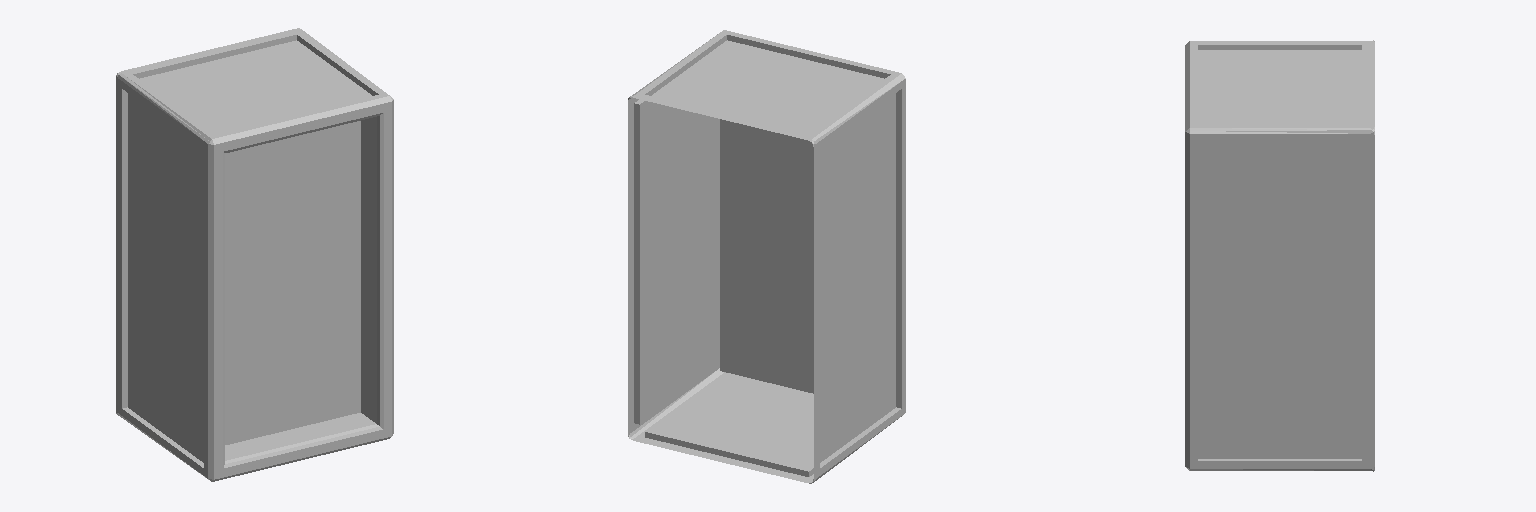
Rendered from puzzlebox.obj.
The picture shows the model from 3 angles: view 1: azimuth 30°, elevation 25°; view 2: azimuth 150°, elevation 25°; view 3: azimuth 270°, elevation 25°; orthographic projection.
Visible parts, largest first — view 1: puzzlebox; view 2: puzzlebox; view 3: puzzlebox.
Boxes of the visible parts, <box> form: puzzlebox: <box>116,28,393,481</box>; puzzlebox: <box>628,30,905,483</box>; puzzlebox: <box>1185,40,1374,471</box>.
Size of the model in its own units: 17 by 30 by 15.